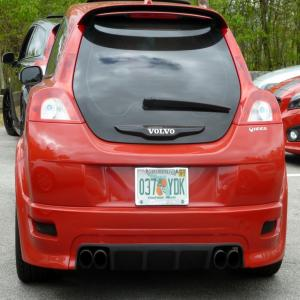Vehicle-registration-plate: (134, 171, 194, 212)
